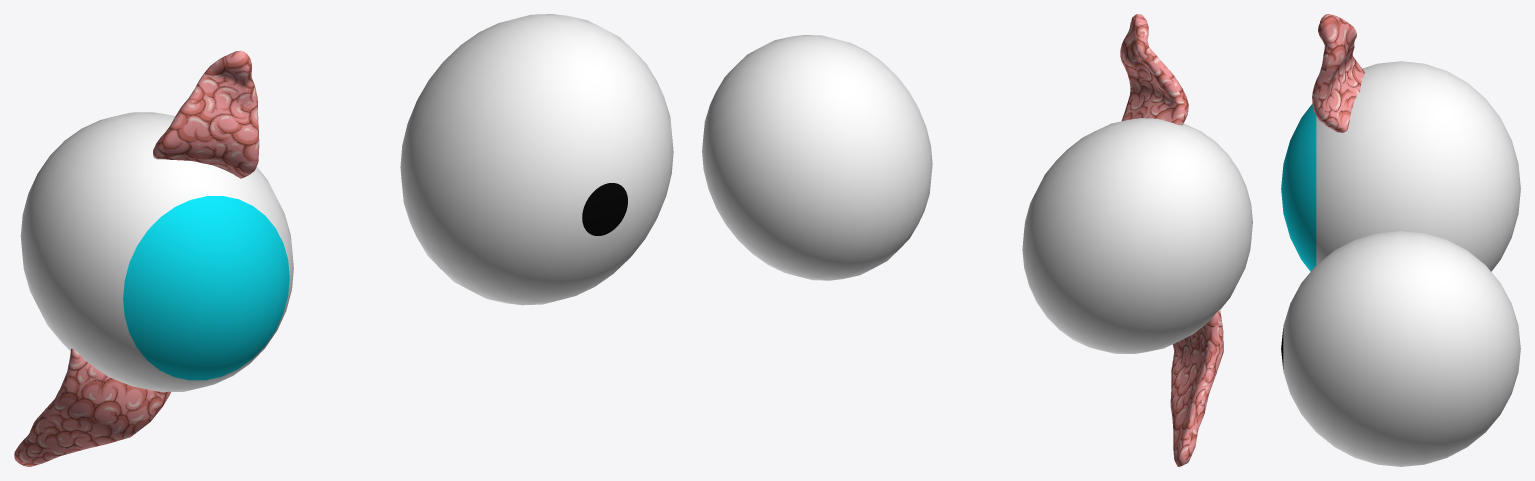
The model's file is Injured_Eye.fbx.
3 views of the same model, side by side, from view 1: azimuth 30°, elevation 25°; view 2: azimuth 150°, elevation 25°; view 3: azimuth 270°, elevation 25° (orthographic). The views are drawn at different scales.
Visible parts, largest first — view 1: Injured_Eye; view 2: Injured_Eye; view 3: Injured_Eye.
Part boxes in pixels (x1,y1,x2,y2): Injured_Eye: (14, 14, 673, 466); Injured_Eye: (702, 14, 1252, 466); Injured_Eye: (1281, 14, 1520, 466).
Size of the model in its own units: 74.36 by 51.07 by 29.07.
